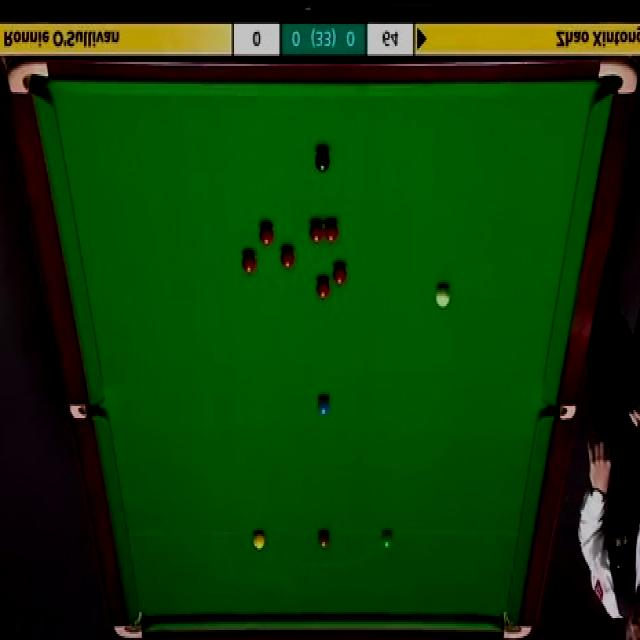black-ball: (315, 147, 331, 173)
blue-ball: (317, 398, 330, 416)
brown-ball: (317, 531, 330, 548)
red-ball: (324, 218, 340, 244), (332, 262, 347, 288), (240, 253, 256, 275), (316, 278, 332, 299), (310, 222, 324, 244), (280, 248, 295, 268), (260, 226, 274, 247)
white-ball: (436, 286, 451, 310)
yellow-ball: (381, 531, 395, 551), (252, 532, 266, 549)
